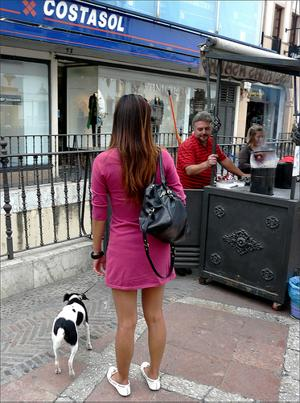person: (92, 94, 187, 395)
